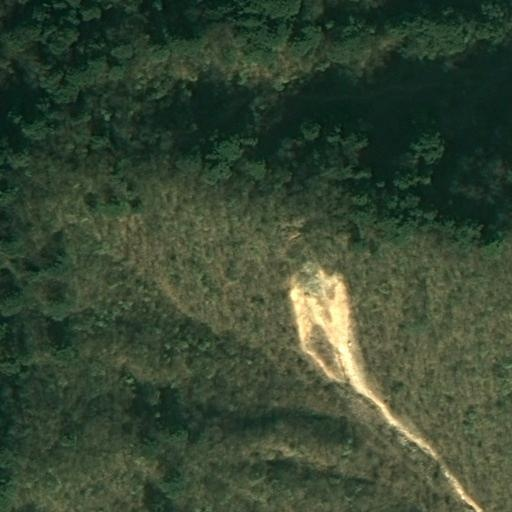landslide: (286, 259, 466, 498)
